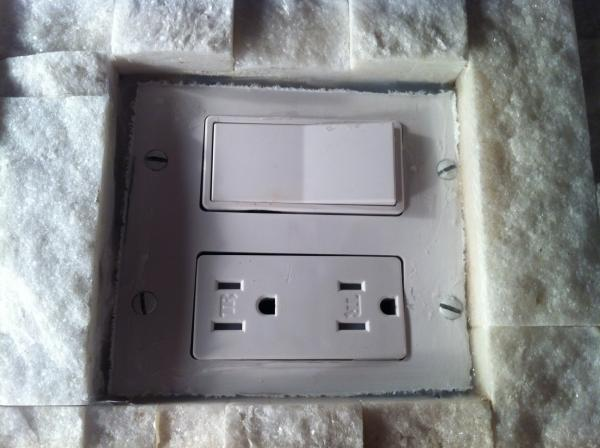outlet: (206, 273, 281, 338), (331, 274, 401, 338)
